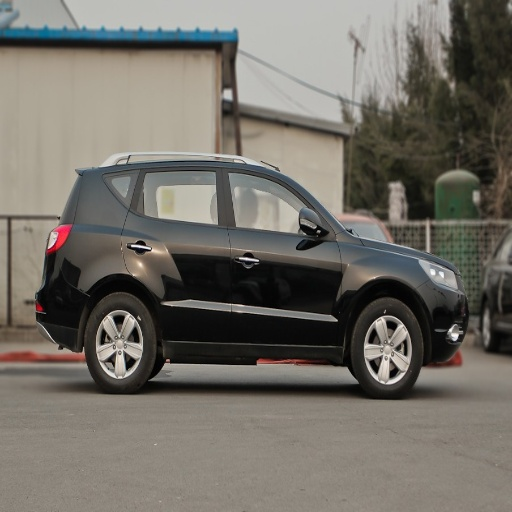back_right_door: (123, 162, 232, 352)
front_right_door: (225, 163, 343, 353)
